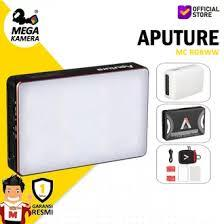Lamp: (1, 54, 153, 187)
